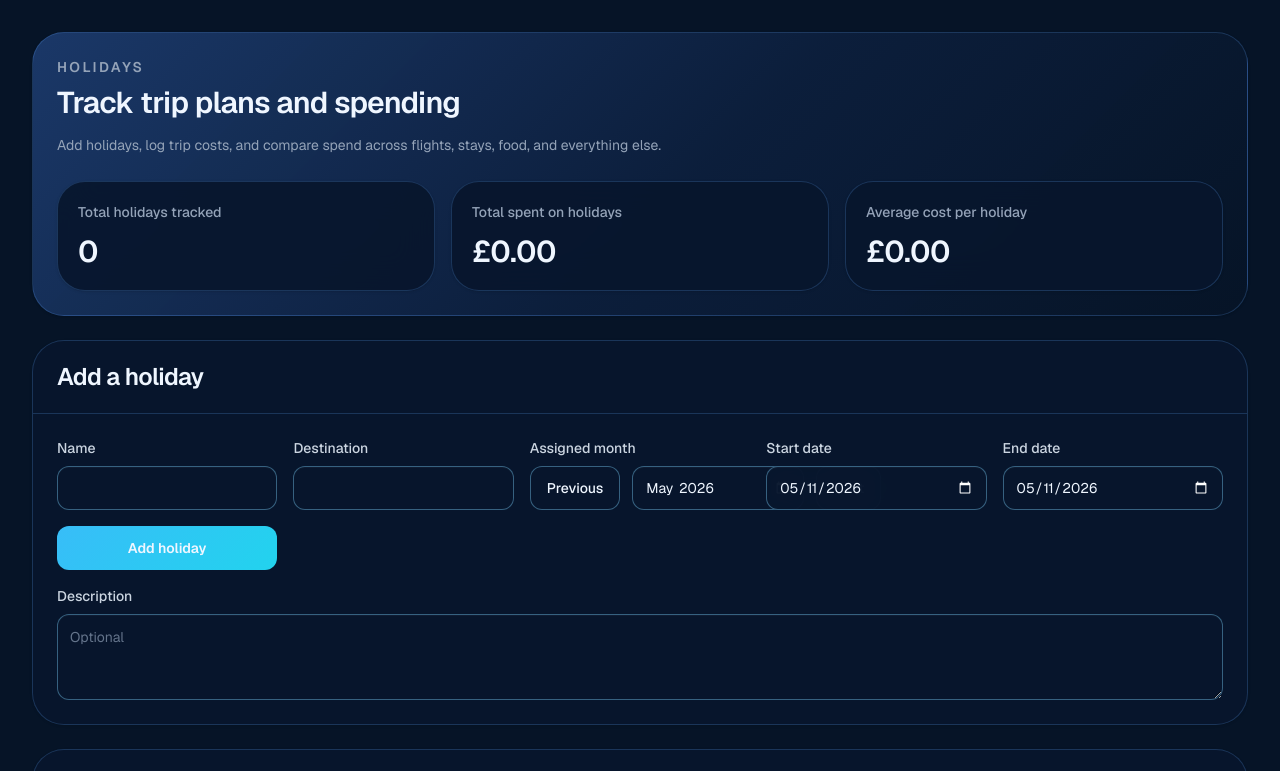
Test: [Component] holidays page › should show validation errors when the holiday form is submitted without required fields
Click the button "Add holiday" at (167, 548), box [57,526,277,570]
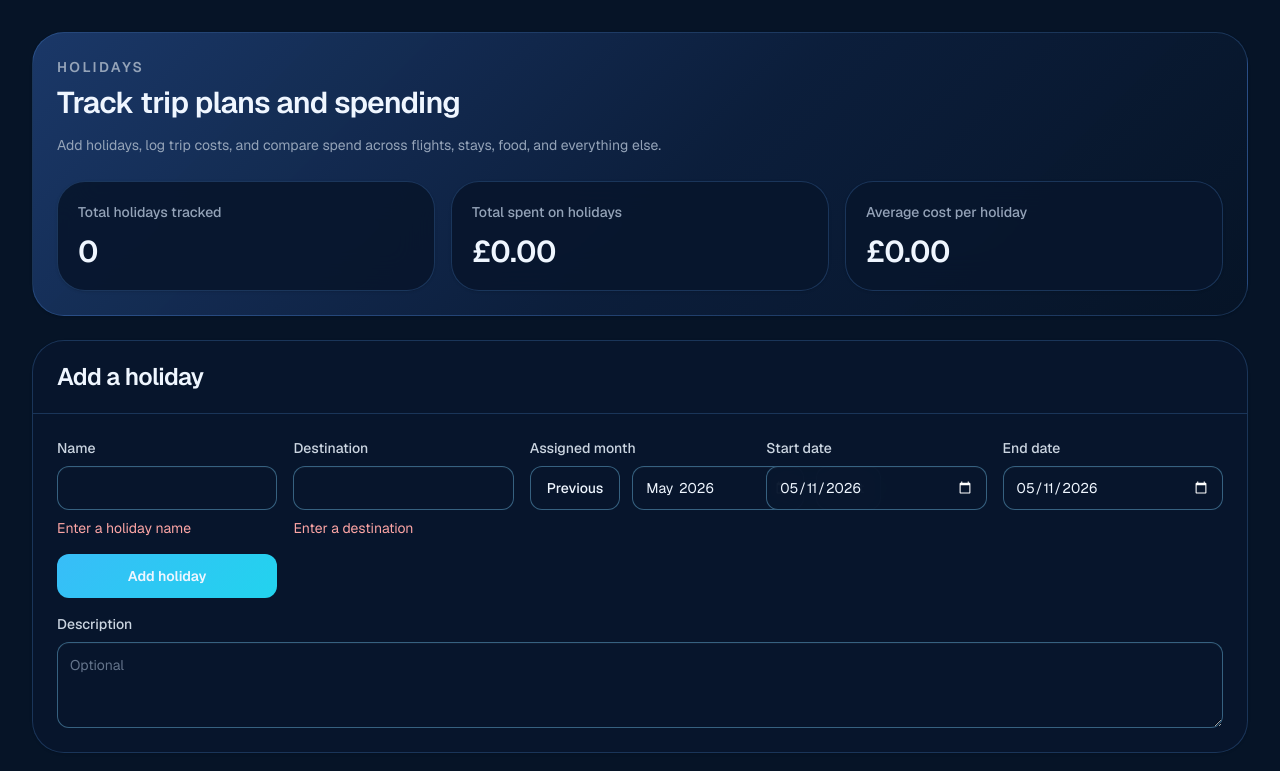
expect the text "Enter a holiday name" is shown: met, box [57,519,191,537]
expect the text "Enter a destination" is shown: met, box [293,519,414,537]
